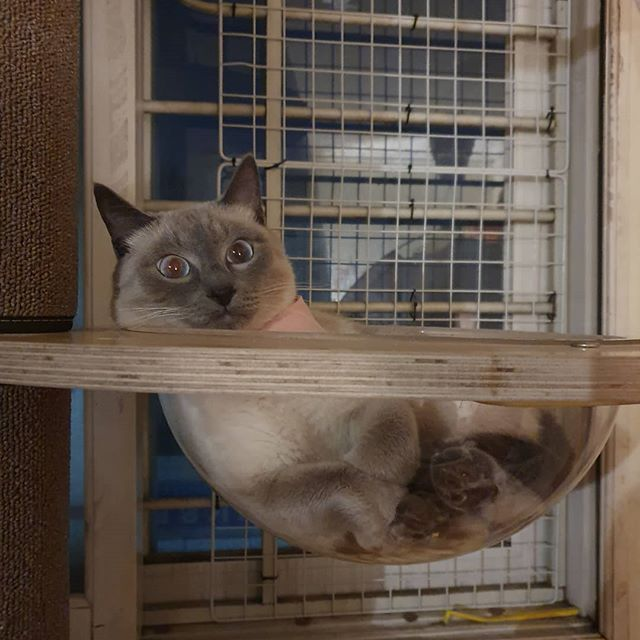cat: (91, 152, 297, 358)
